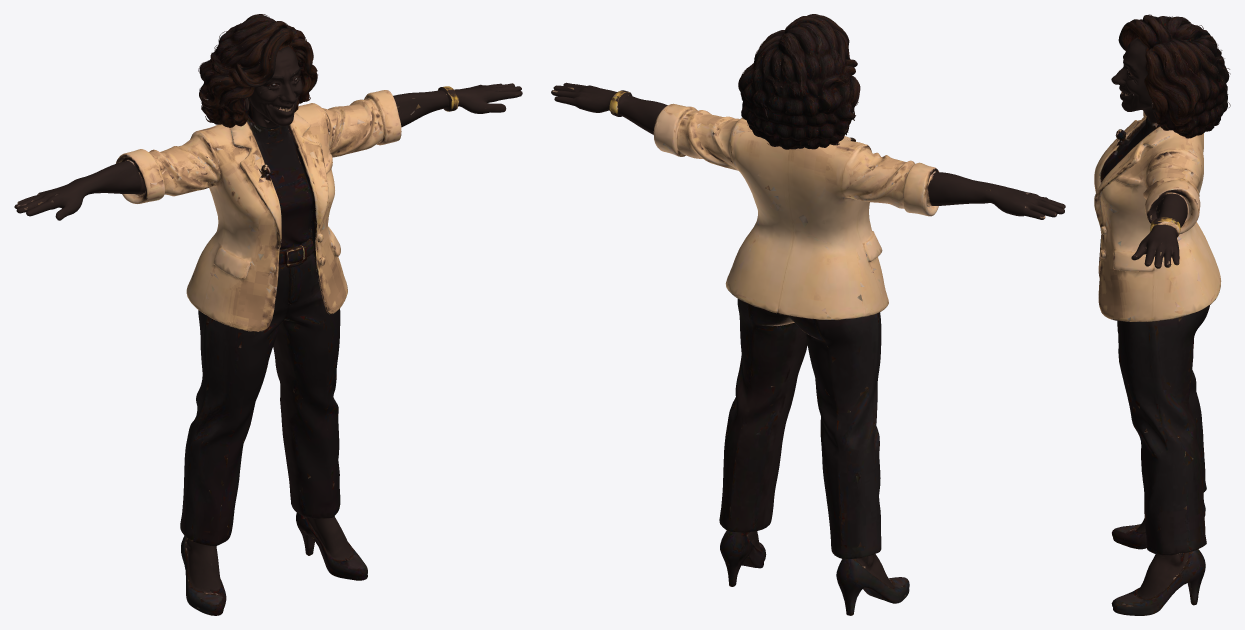
File: gloria-estatica.glb
3 views of the same model, side by side, from view 1: azimuth 30°, elevation 25°; view 2: azimuth 150°, elevation 25°; view 3: azimuth 270°, elevation 25° (orthographic).
Visible parts, largest first — view 1: Corpo Glória Maria, Cabeça Glória Maria; view 2: Corpo Glória Maria, Cabeça Glória Maria; view 3: Corpo Glória Maria, Cabeça Glória Maria.
Part boxes in pixels (x1,y1,x2,y2): Corpo Glória Maria: [14, 83, 522, 615]; Cabeça Glória Maria: [198, 14, 317, 127]; Corpo Glória Maria: [551, 82, 1065, 615]; Cabeça Glória Maria: [738, 14, 860, 149]; Corpo Glória Maria: [1094, 111, 1221, 615]; Cabeça Glória Maria: [1111, 14, 1230, 138].
Bounding box in the file's own units: 1.99 × 2.12 × 0.4683.
Materials: 2 (2 with a texture image).
